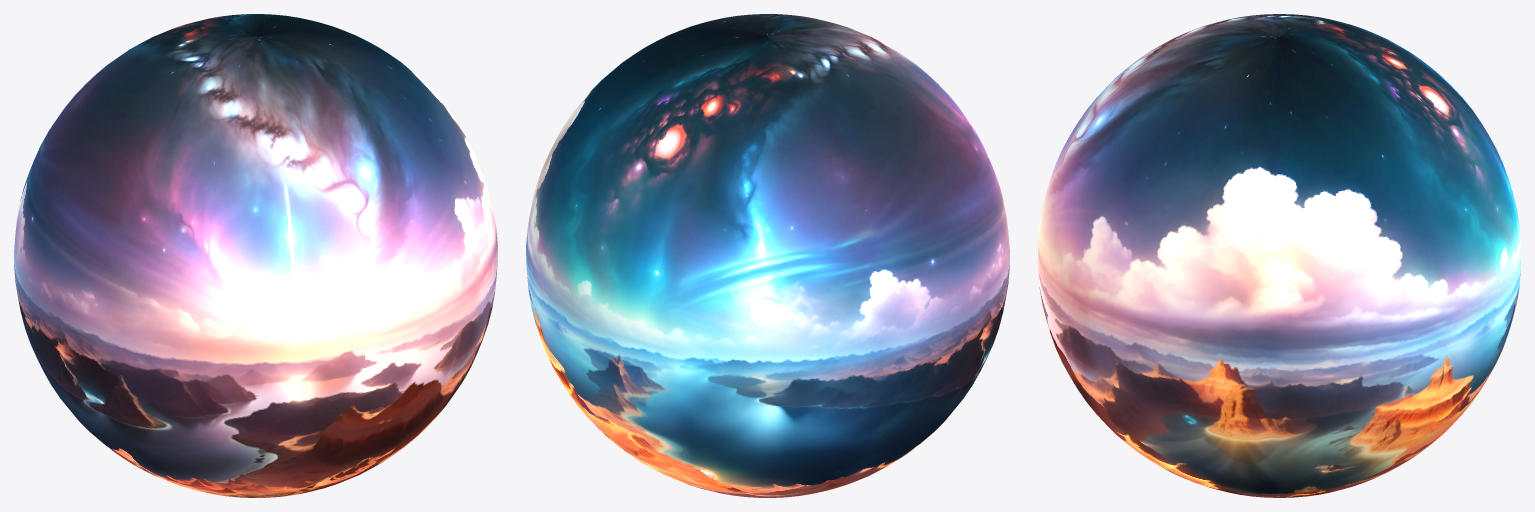
File: sky.glb
The picture shows the model from 3 angles, left to right: view 1: azimuth 30°, elevation 25°; view 2: azimuth 150°, elevation 25°; view 3: azimuth 270°, elevation 25°; orthographic projection.
Parts seen in each view (by area): view 1: pack1; view 2: pack1; view 3: pack1.
Part boxes in pixels (bbox=[...]): pack1: bbox=[14, 14, 497, 497]; pack1: bbox=[526, 14, 1009, 497]; pack1: bbox=[1038, 14, 1520, 497].
Size of the model in its own units: 0.2478 by 0.248 by 0.2473.
Materials: 1 (1 with a texture image).
